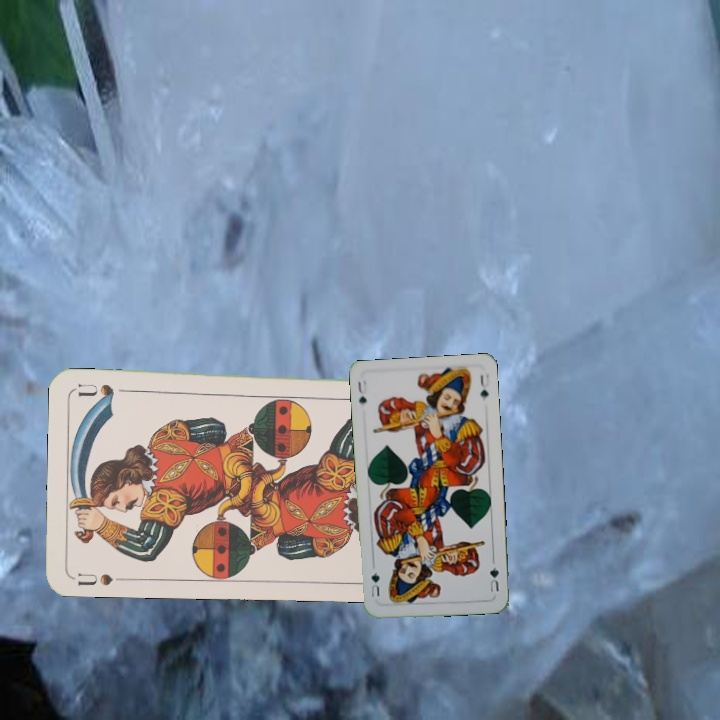GU: (485, 563, 502, 595), (354, 376, 370, 407)
SU: (74, 569, 116, 588)
